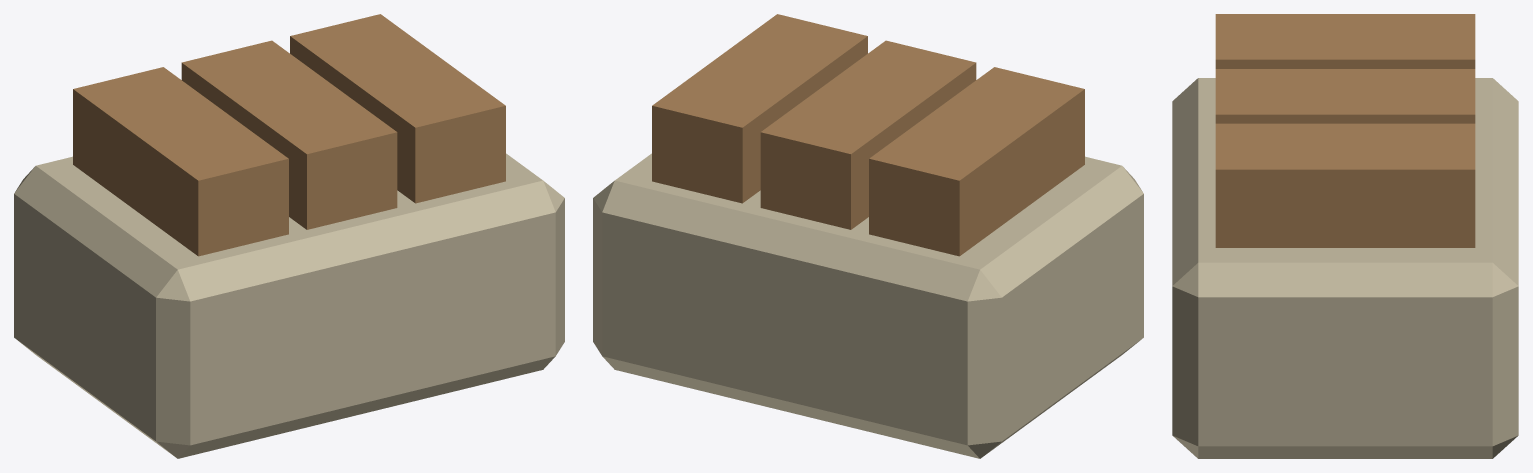
Rendered from set_stethoscope.glb.
The picture shows the model from 3 angles, left to right: view 1: azimuth 30°, elevation 25°; view 2: azimuth 150°, elevation 25°; view 3: azimuth 270°, elevation 25°; orthographic projection. The views are drawn at different scales.
Parts seen in each view (by area): view 1: set_stethoscope; view 2: set_stethoscope; view 3: set_stethoscope.
Boxes of the visible parts, x1=… form: set_stethoscope: x1=14, y1=14, x2=564, y2=458; set_stethoscope: x1=593, y1=14, x2=1143, y2=458; set_stethoscope: x1=1172, y1=14, x2=1518, y2=458.
Bounding box in the file's own units: 0.226 × 0.14 × 0.16.
